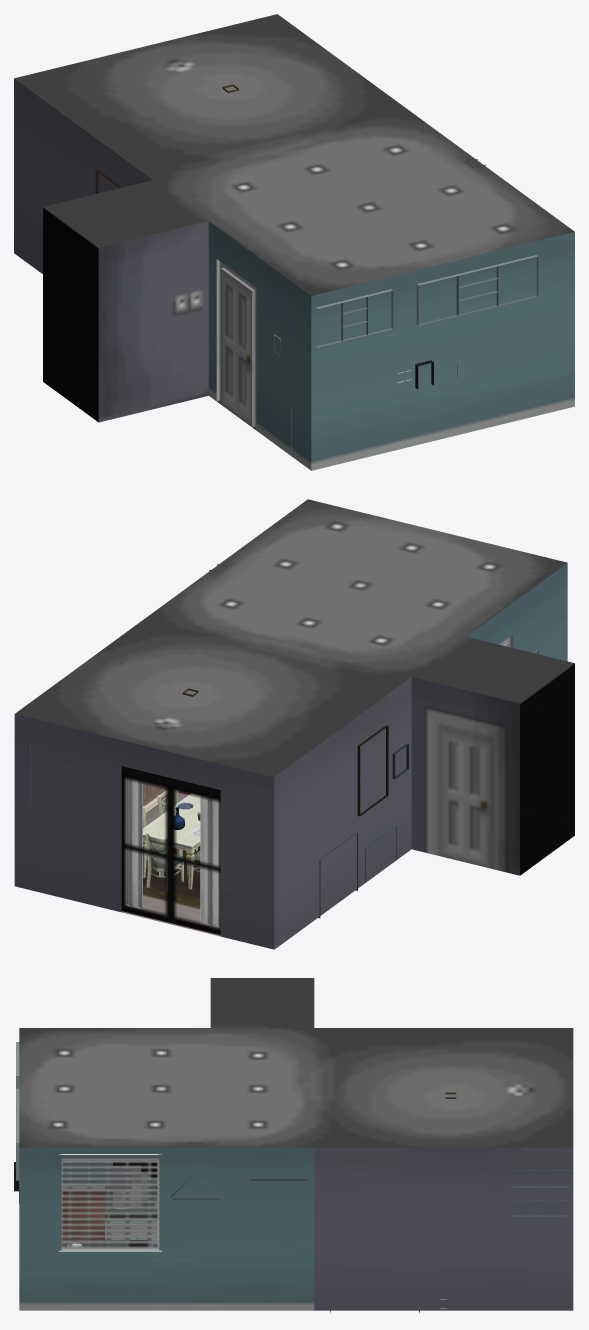
The model's file is room.gltf.
3 renders of one model, top to bottom at view 1: azimuth 30°, elevation 25°; view 2: azimuth 150°, elevation 25°; view 3: azimuth 270°, elevation 25°, orthographic. The views are drawn at different scales.
Parts seen in each view (by area): view 1: Room, Furniture; view 2: Room, Furniture, Items1; view 3: Room, Items1, Furniture, Cube.
Boxes of the visible parts, x1=… form: Room: x1=14, y1=14, x2=574, y2=470; Furniture: x1=95, y1=84, x2=538, y2=456; Room: x1=14, y1=499, x2=574, y2=949; Furniture: x1=14, y1=564, x2=408, y2=927; Items1: x1=68, y1=649, x2=538, y2=934; Room: x1=19, y1=978, x2=573, y2=1310; Items1: x1=14, y1=1154, x2=161, y2=1251; Furniture: x1=16, y1=1042, x2=572, y2=1312; Cube: x1=113, y1=1162, x2=158, y2=1246.
Size of the model in its own units: 5.41 by 2.5 by 7.47.
Materials: 8 (8 with a texture image).
